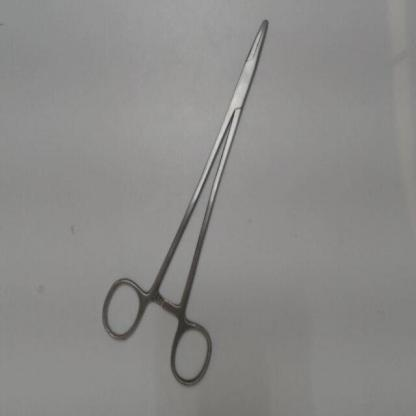8 Mayo Needle Holder: (93, 5, 281, 397)
